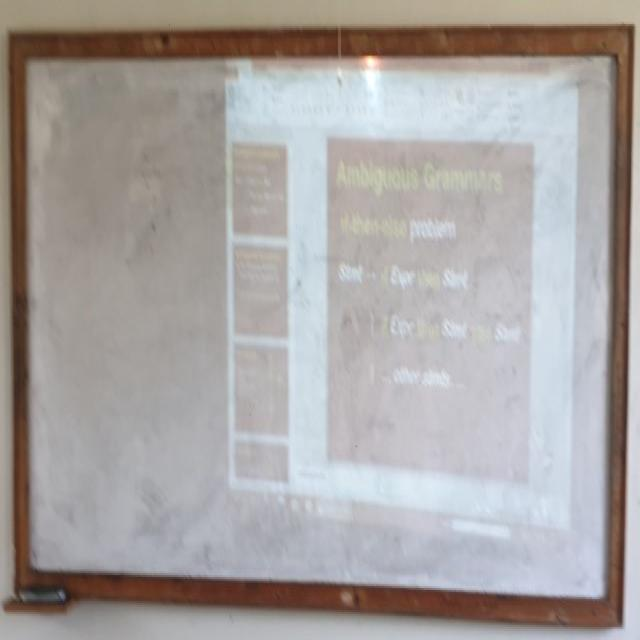Slide: (227, 48, 580, 562)
White-board: (14, 39, 623, 613)
